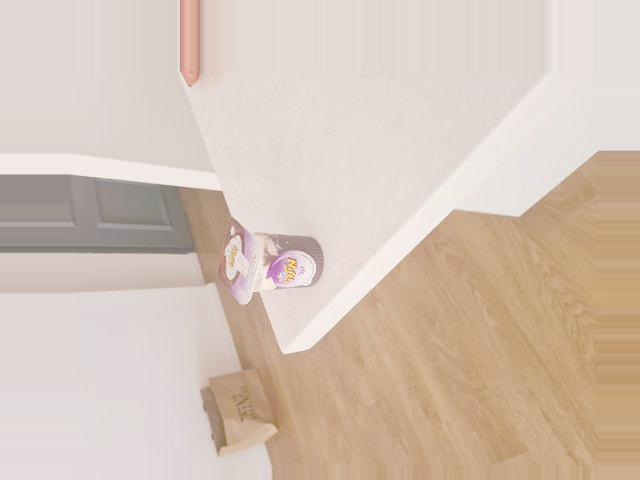milky: (217, 220, 322, 309)
